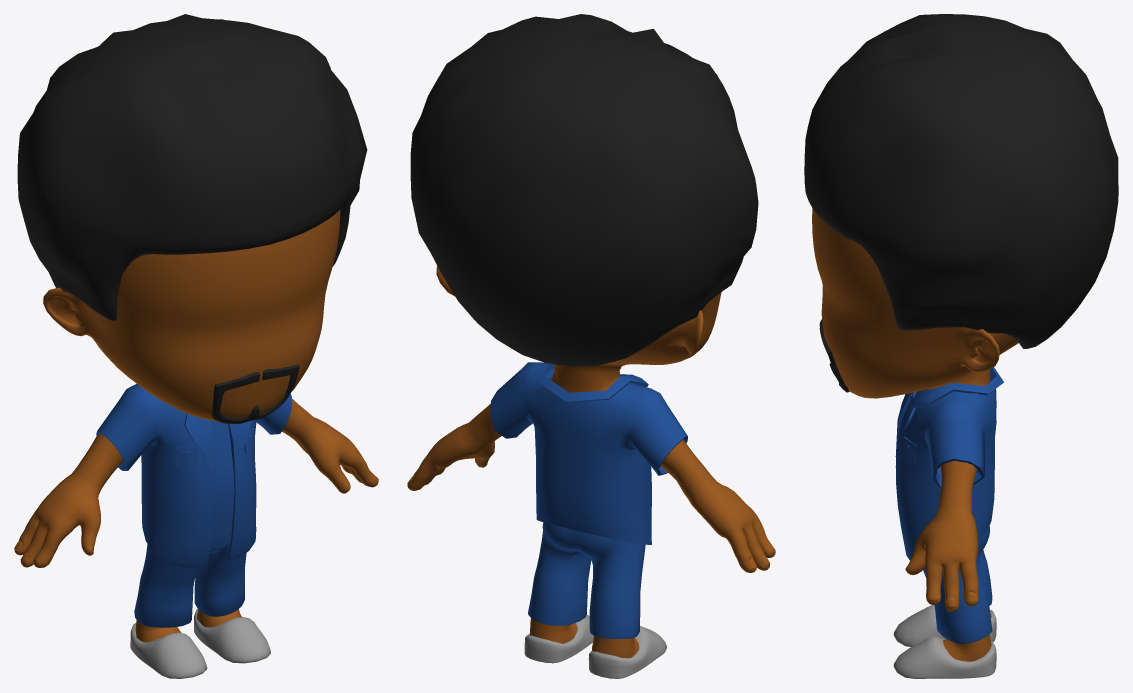
File: male_ver_05.FBX
3 renders of one model, left to right at view 1: azimuth 30°, elevation 25°; view 2: azimuth 150°, elevation 25°; view 3: azimuth 270°, elevation 25°, orthographic.
Visible parts, largest first — view 1: mostachu1:hair_05, body, mostachu1:shirt, pant:pent, shoes, mostachu1:tshirt, mostachu1:mostachu, Object001; view 2: mostachu1:hair_05, mostachu1:shirt, body, pant:pent, shoes; view 3: mostachu1:hair_05, body, mostachu1:shirt, shoes, pant:pent.
Boxes of the visible parts, x1,y1,x2,y2 form: mostachu1:hair_05: [17, 14, 367, 320]; body: [14, 210, 378, 642]; mostachu1:shirt: [96, 383, 291, 567]; pant:pent: [134, 544, 246, 627]; shoes: [130, 608, 270, 678]; mostachu1:tshirt: [209, 420, 234, 550]; mostachu1:mostachu: [212, 364, 299, 424]; Object001: [176, 428, 254, 470]; mostachu1:hair_05: [410, 14, 758, 366]; mostachu1:shirt: [490, 362, 687, 544]; body: [407, 266, 775, 658]; pant:pent: [528, 522, 645, 638]; shoes: [524, 615, 666, 678]; mostachu1:hair_05: [804, 14, 1118, 348]; body: [812, 208, 1018, 661]; mostachu1:shirt: [895, 367, 1003, 559]; shoes: [893, 605, 996, 678]; pant:pent: [923, 526, 992, 643].
Size of the model in its own units: 10.58 by 17.6 by 8.14.
